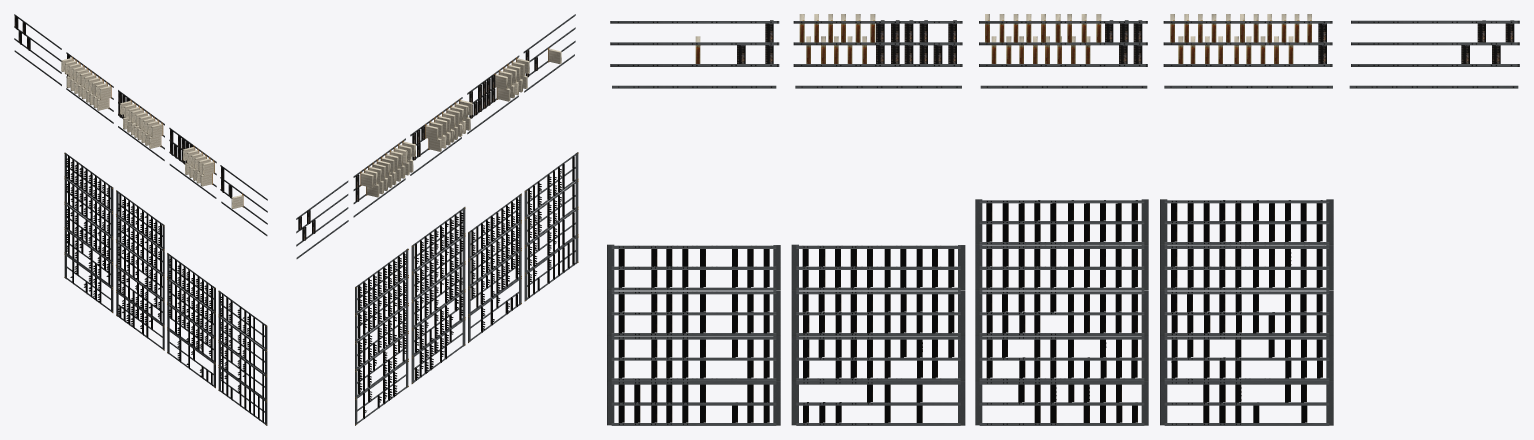
Rendered from cross_stativ_111.fbx.
The picture shows the model from 3 angles, left to right: view 1: azimuth 30°, elevation 25°; view 2: azimuth 150°, elevation 25°; view 3: azimuth 270°, elevation 25°; orthographic projection. The views are drawn at different scales.
Parts seen in each view (by area): view 1: cross_stativ; view 2: cross_stativ; view 3: cross_stativ.
Boxes of the visible parts, x1,y1,x2,y2 form: cross_stativ: (14, 14, 267, 425); cross_stativ: (296, 14, 578, 425); cross_stativ: (607, 14, 1519, 425).
Bounding box in the file's own units: 0.0113 × 0.2183 × 0.4448.
